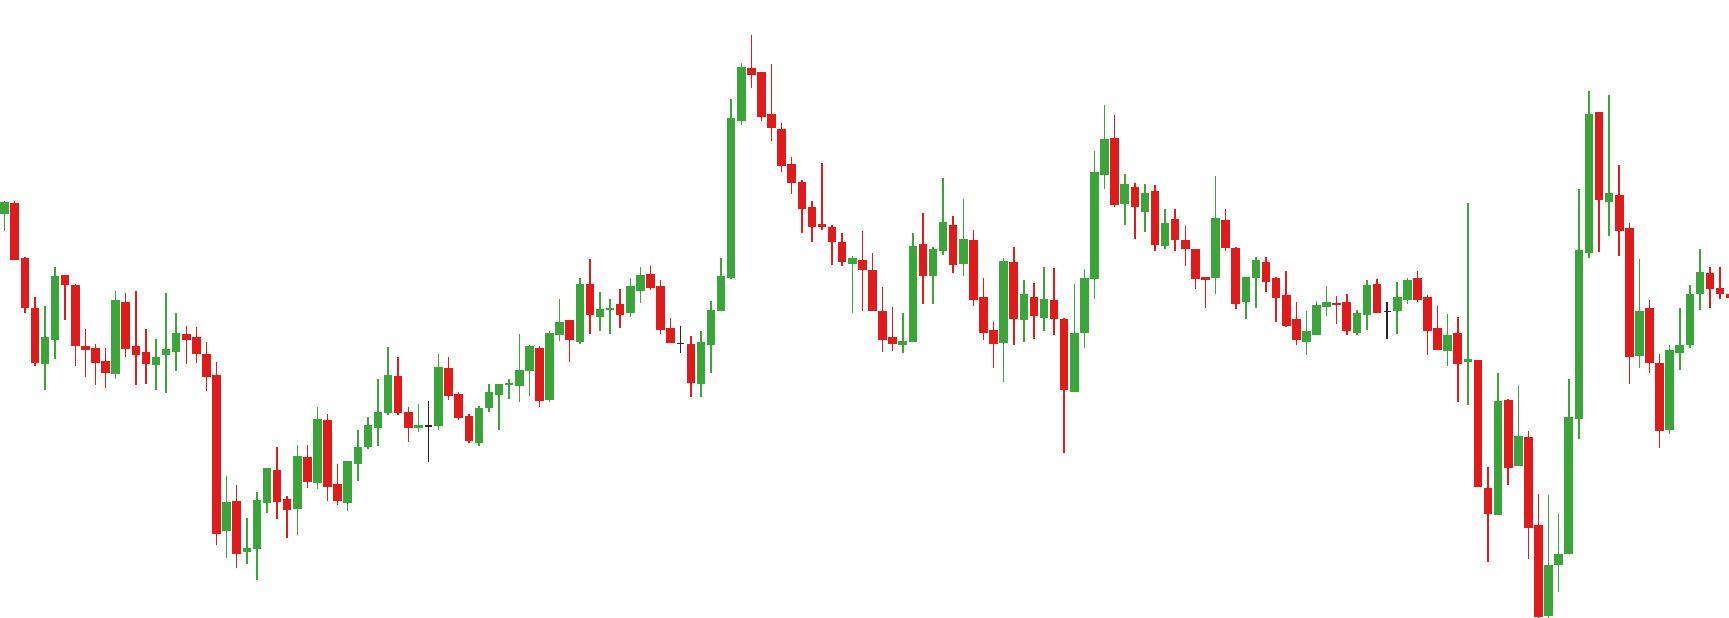buy: (563, 295, 705, 404), (990, 295, 1080, 455), (1482, 449, 1562, 618)
sell: (938, 105, 1120, 259)
